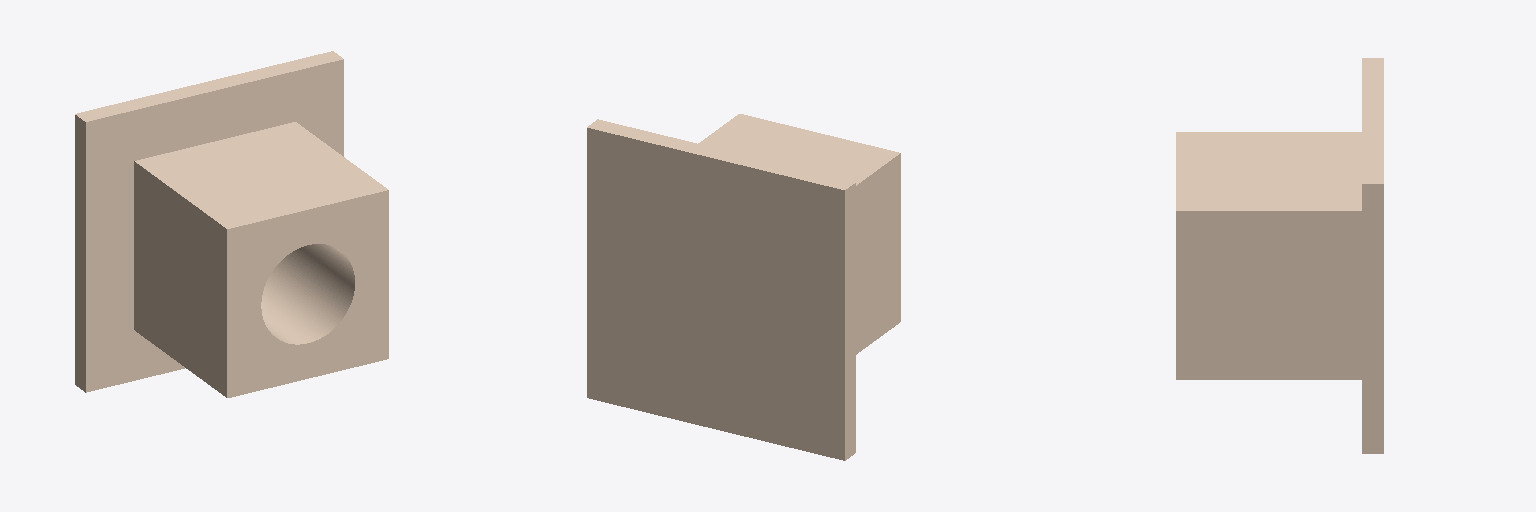
The model's file is industreal_tray_pick_round_peg_12mm.obj.
The picture shows the model from 3 angles: view 1: azimuth 30°, elevation 25°; view 2: azimuth 150°, elevation 25°; view 3: azimuth 270°, elevation 25°; orthographic projection.
Parts seen in each view (by area): view 1: industreal_tray_pick_round_peg_12mm; view 2: industreal_tray_pick_round_peg_12mm; view 3: industreal_tray_pick_round_peg_12mm.
Boxes of the visible parts, x1,y1,x2,y2 form: industreal_tray_pick_round_peg_12mm: [75, 51, 388, 397]; industreal_tray_pick_round_peg_12mm: [587, 114, 900, 460]; industreal_tray_pick_round_peg_12mm: [1176, 58, 1383, 453].
Bounding box in the file's own units: 0.04 × 0.04 × 0.028.